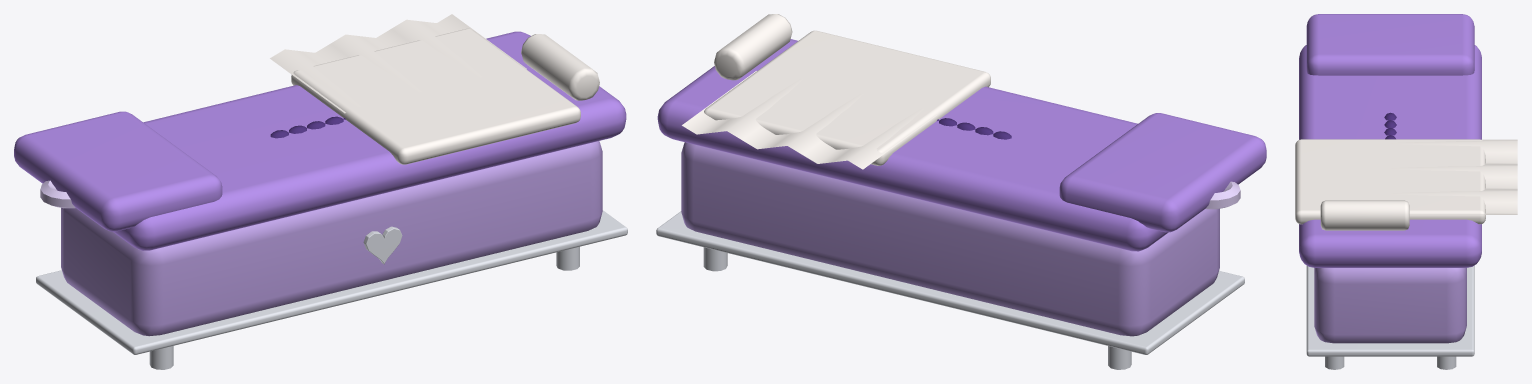
The model's file is spa_massage_bed.glb.
3 views of the same model, side by side, from view 1: azimuth 30°, elevation 25°; view 2: azimuth 150°, elevation 25°; view 3: azimuth 270°, elevation 25° (orthographic). The views are drawn at different scales.
Visible parts, largest first — view 1: spa_massage_bed; view 2: spa_massage_bed; view 3: spa_massage_bed.
Boxes of the visible parts, x1,y1,x2,y2 form: spa_massage_bed: (14,14,627,369); spa_massage_bed: (656,14,1266,369); spa_massage_bed: (1295,14,1517,369).
Size of the model in its own units: 2.06 by 0.73 by 0.875.
